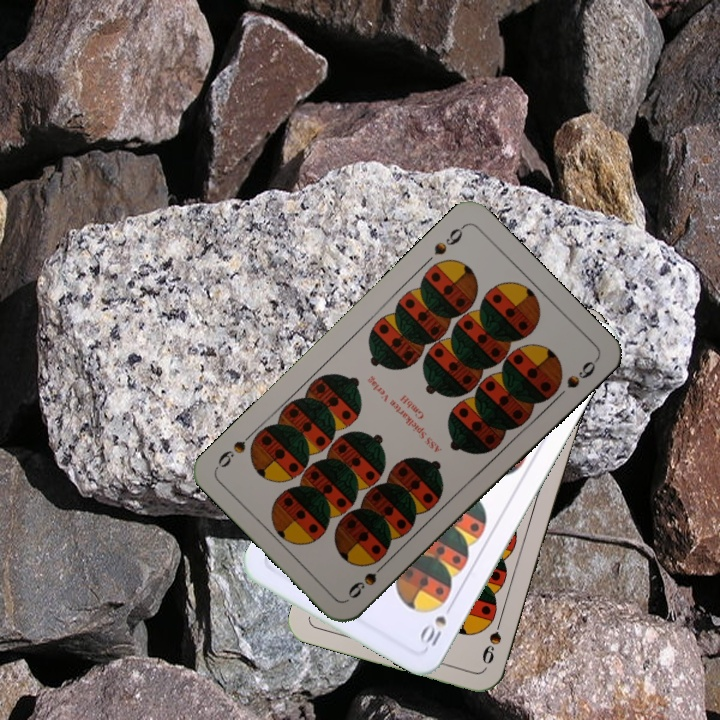S10: (416, 598, 457, 649)
S9: (343, 556, 391, 602), (478, 610, 506, 667), (429, 221, 468, 258)
